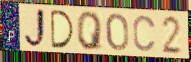2: (161, 15, 183, 55)
C: (132, 14, 157, 54)
D: (49, 8, 76, 50)
J: (23, 7, 48, 50)
O: (105, 12, 130, 53)
Q: (76, 11, 104, 52)
